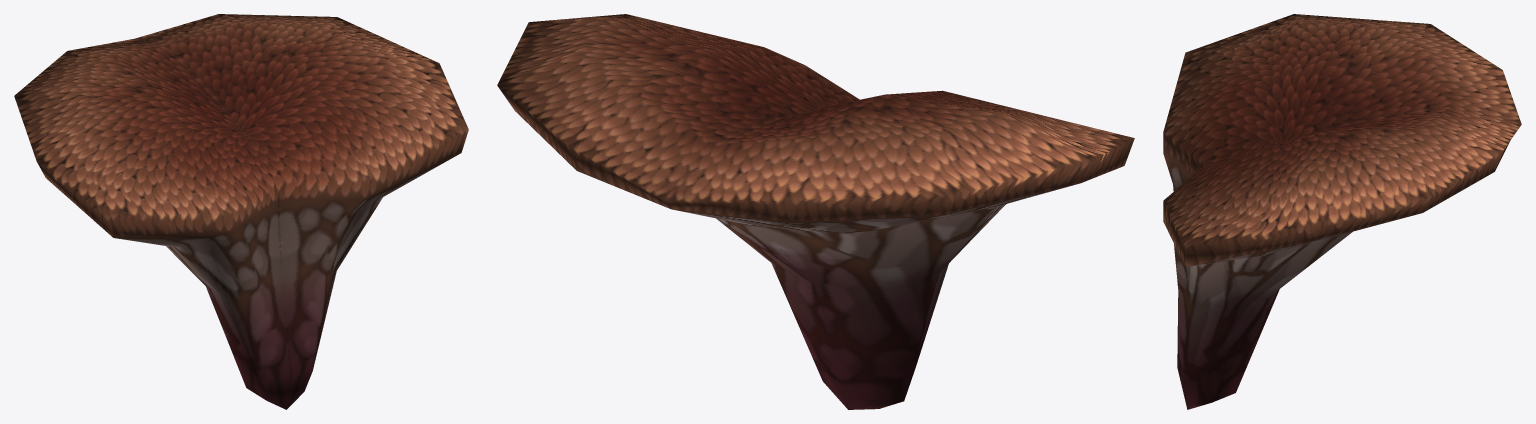
Rendered from Coral_21.FBX.
3 renders of one model, left to right at view 1: azimuth 30°, elevation 25°; view 2: azimuth 150°, elevation 25°; view 3: azimuth 270°, elevation 25°, orthographic. The views are drawn at different scales.
Parts seen in each view (by area): view 1: Coral_21; view 2: Coral_21; view 3: Coral_21.
Boxes of the visible parts, box(x1,y1,x2,y2) form: Coral_21: box(14, 14, 468, 409); Coral_21: box(497, 14, 1134, 409); Coral_21: box(1163, 14, 1521, 409).
Size of the model in its own units: 24.97 by 17.11 by 17.51.
